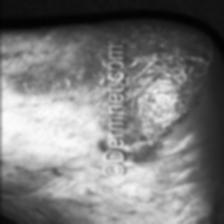Non-Cancerous Skin Condition: (130, 28, 210, 152)
